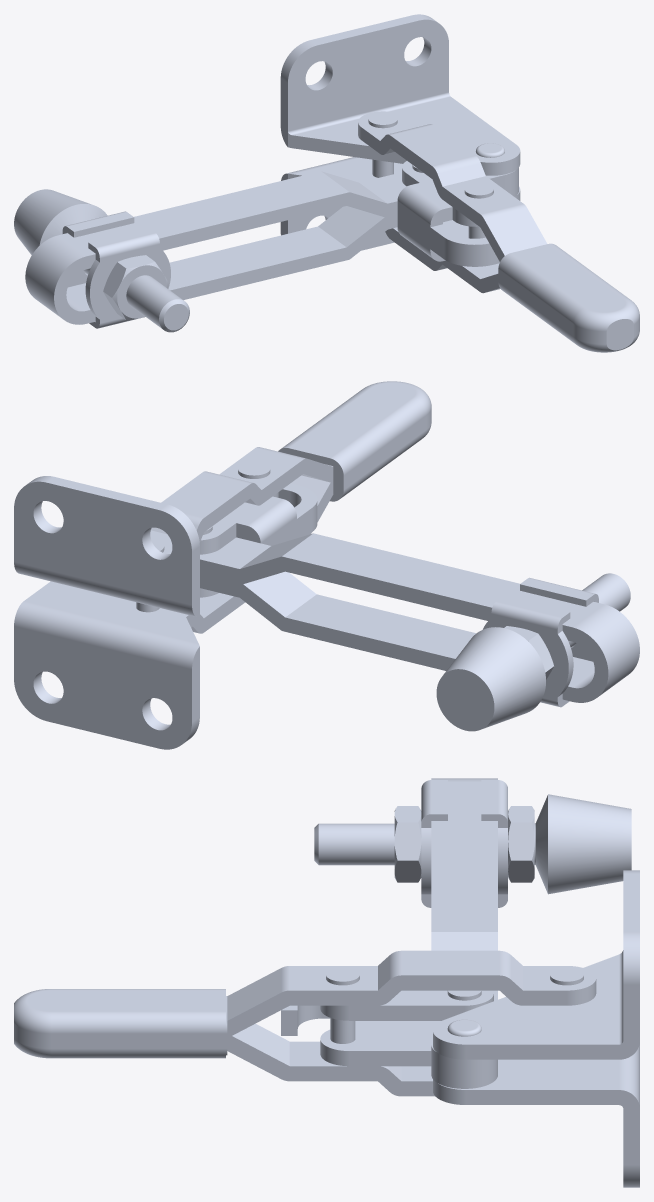
File: Misumi-C-LD-101AL.obj
3 views of the same model, one above another, from view 1: azimuth 30°, elevation 25°; view 2: azimuth 150°, elevation 25°; view 3: azimuth 270°, elevation 25° (orthographic). The views are drawn at different scales.
Parts seen in each view (by area): view 1: Body1:1, Body1, Body1:2, Body1:6, Body1:5, Body1:3, Body1:8, Body1:7; view 2: Body1, Body1:1, Body1:2, Body1:5, Body1:6, Body1:7, Body1:3, Body1:4; view 3: Body1:2, Body1, Body1:1, Body1:5, Body1:6, Body1:8, Body1:4, Body1:3, Body1:7.
Part boxes in pixels (<box>): Body1:1: <box>25,167,518,324</box>; Body1: <box>280,14,520,250</box>; Body1:2: <box>358,111,639,352</box>; Body1:6: <box>397,161,499,266</box>; Body1:5: <box>14,189,189,332</box>; Body1:3: <box>85,228,170,328</box>; Body1:8: <box>103,255,168,320</box>; Body1:7: <box>62,211,134,287</box>; Body1: <box>14,476,199,749</box>; Body1:1: <box>200,533,639,702</box>; Body1:2: <box>136,381,431,633</box>; Body1:5: <box>436,573,630,731</box>; Body1:6: <box>199,483,317,597</box>; Body1:7: <box>483,596,573,707</box>; Body1:3: <box>520,577,598,661</box>; Body1:4: <box>504,626,553,679</box>; Body1:2: <box>14,950,596,1096</box>; Body1: <box>433,870,639,1187</box>; Body1:1: <box>431,778,497,1088</box>; Body1:5: <box>314,794,631,894</box>; Body1:6: <box>281,990,493,1066</box>; Body1:8: <box>394,806,421,882</box>; Body1:4: <box>508,806,534,882</box>; Body1:3: <box>421,780,447,907</box>; Body1:7: <box>481,780,507,907</box>.
Bounding box in the file's own units: 76.99 × 33.3 × 75.
